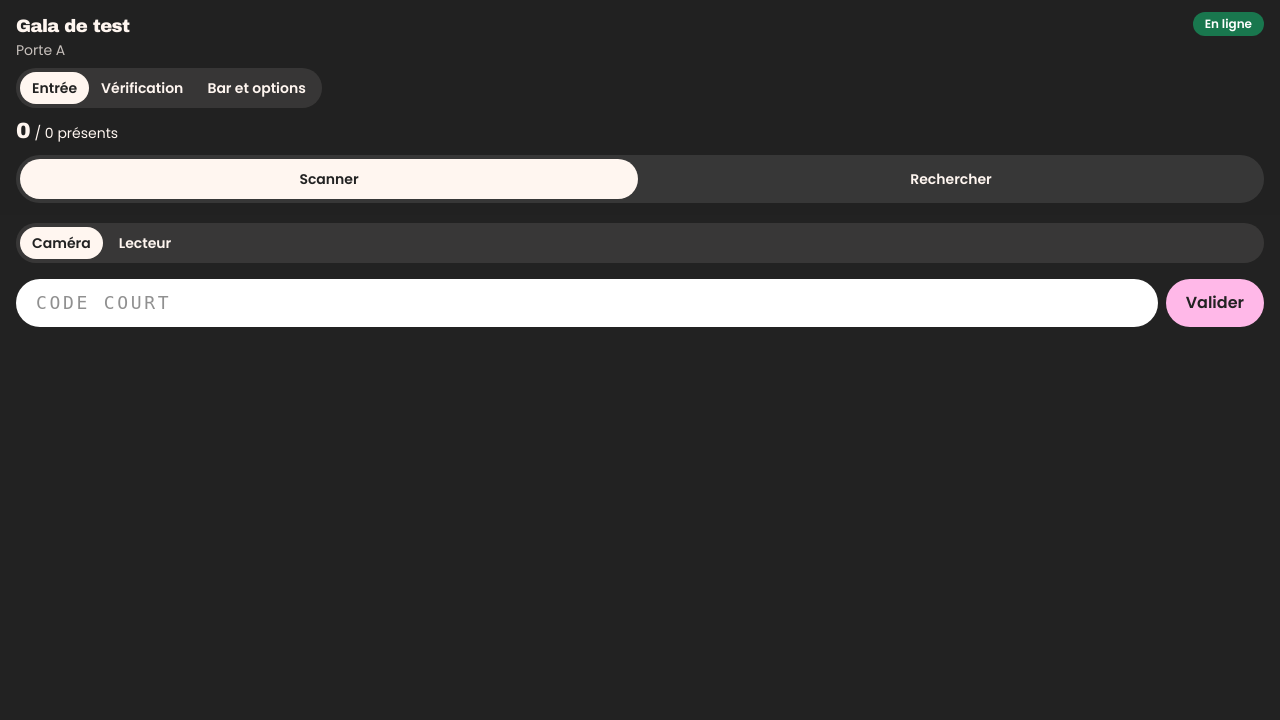
Test: application du scanner : chaque mode appelle le bon service › entrée : le billet est validé à l'entrée
The image size is (1280, 720).
expect the text "Gala de test" is shown: met, box top-left (16, 16), bottom-right (130, 36)
Type "ABC123" into the field with placeholder "Code court" at (587, 303), box top-left (16, 279), bottom-right (1158, 327)
Then press Enter
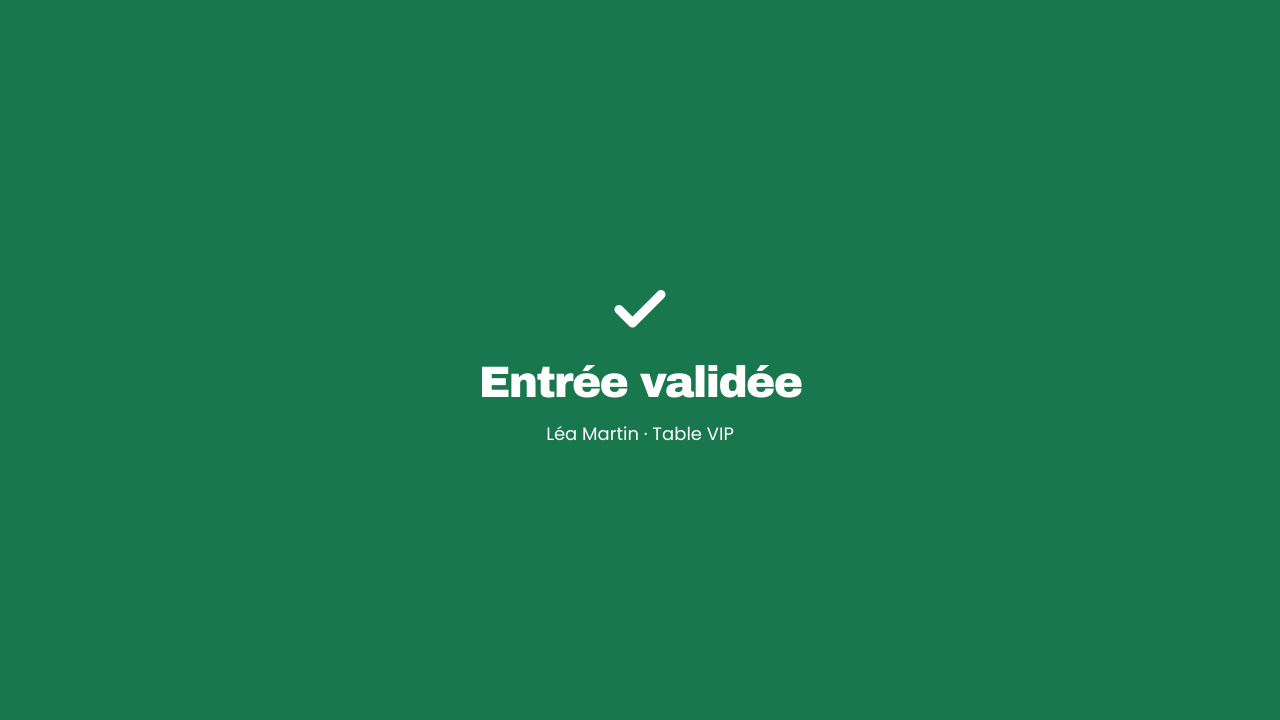
expect the text "Entrée validée" is shown: met, box top-left (479, 356), bottom-right (801, 408)
